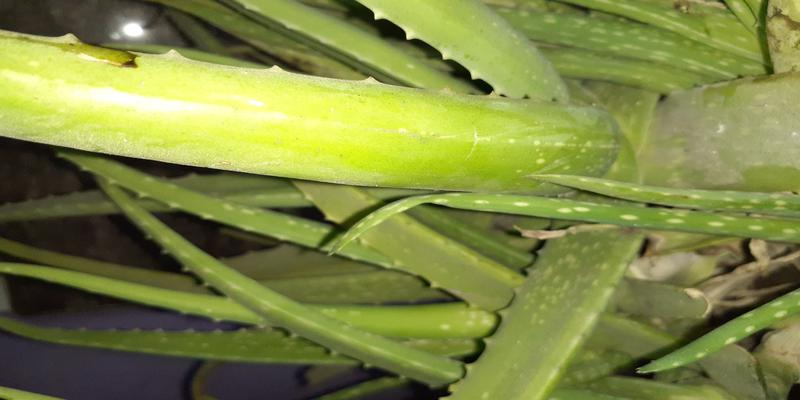Aloevera: (213, 18, 792, 387)
